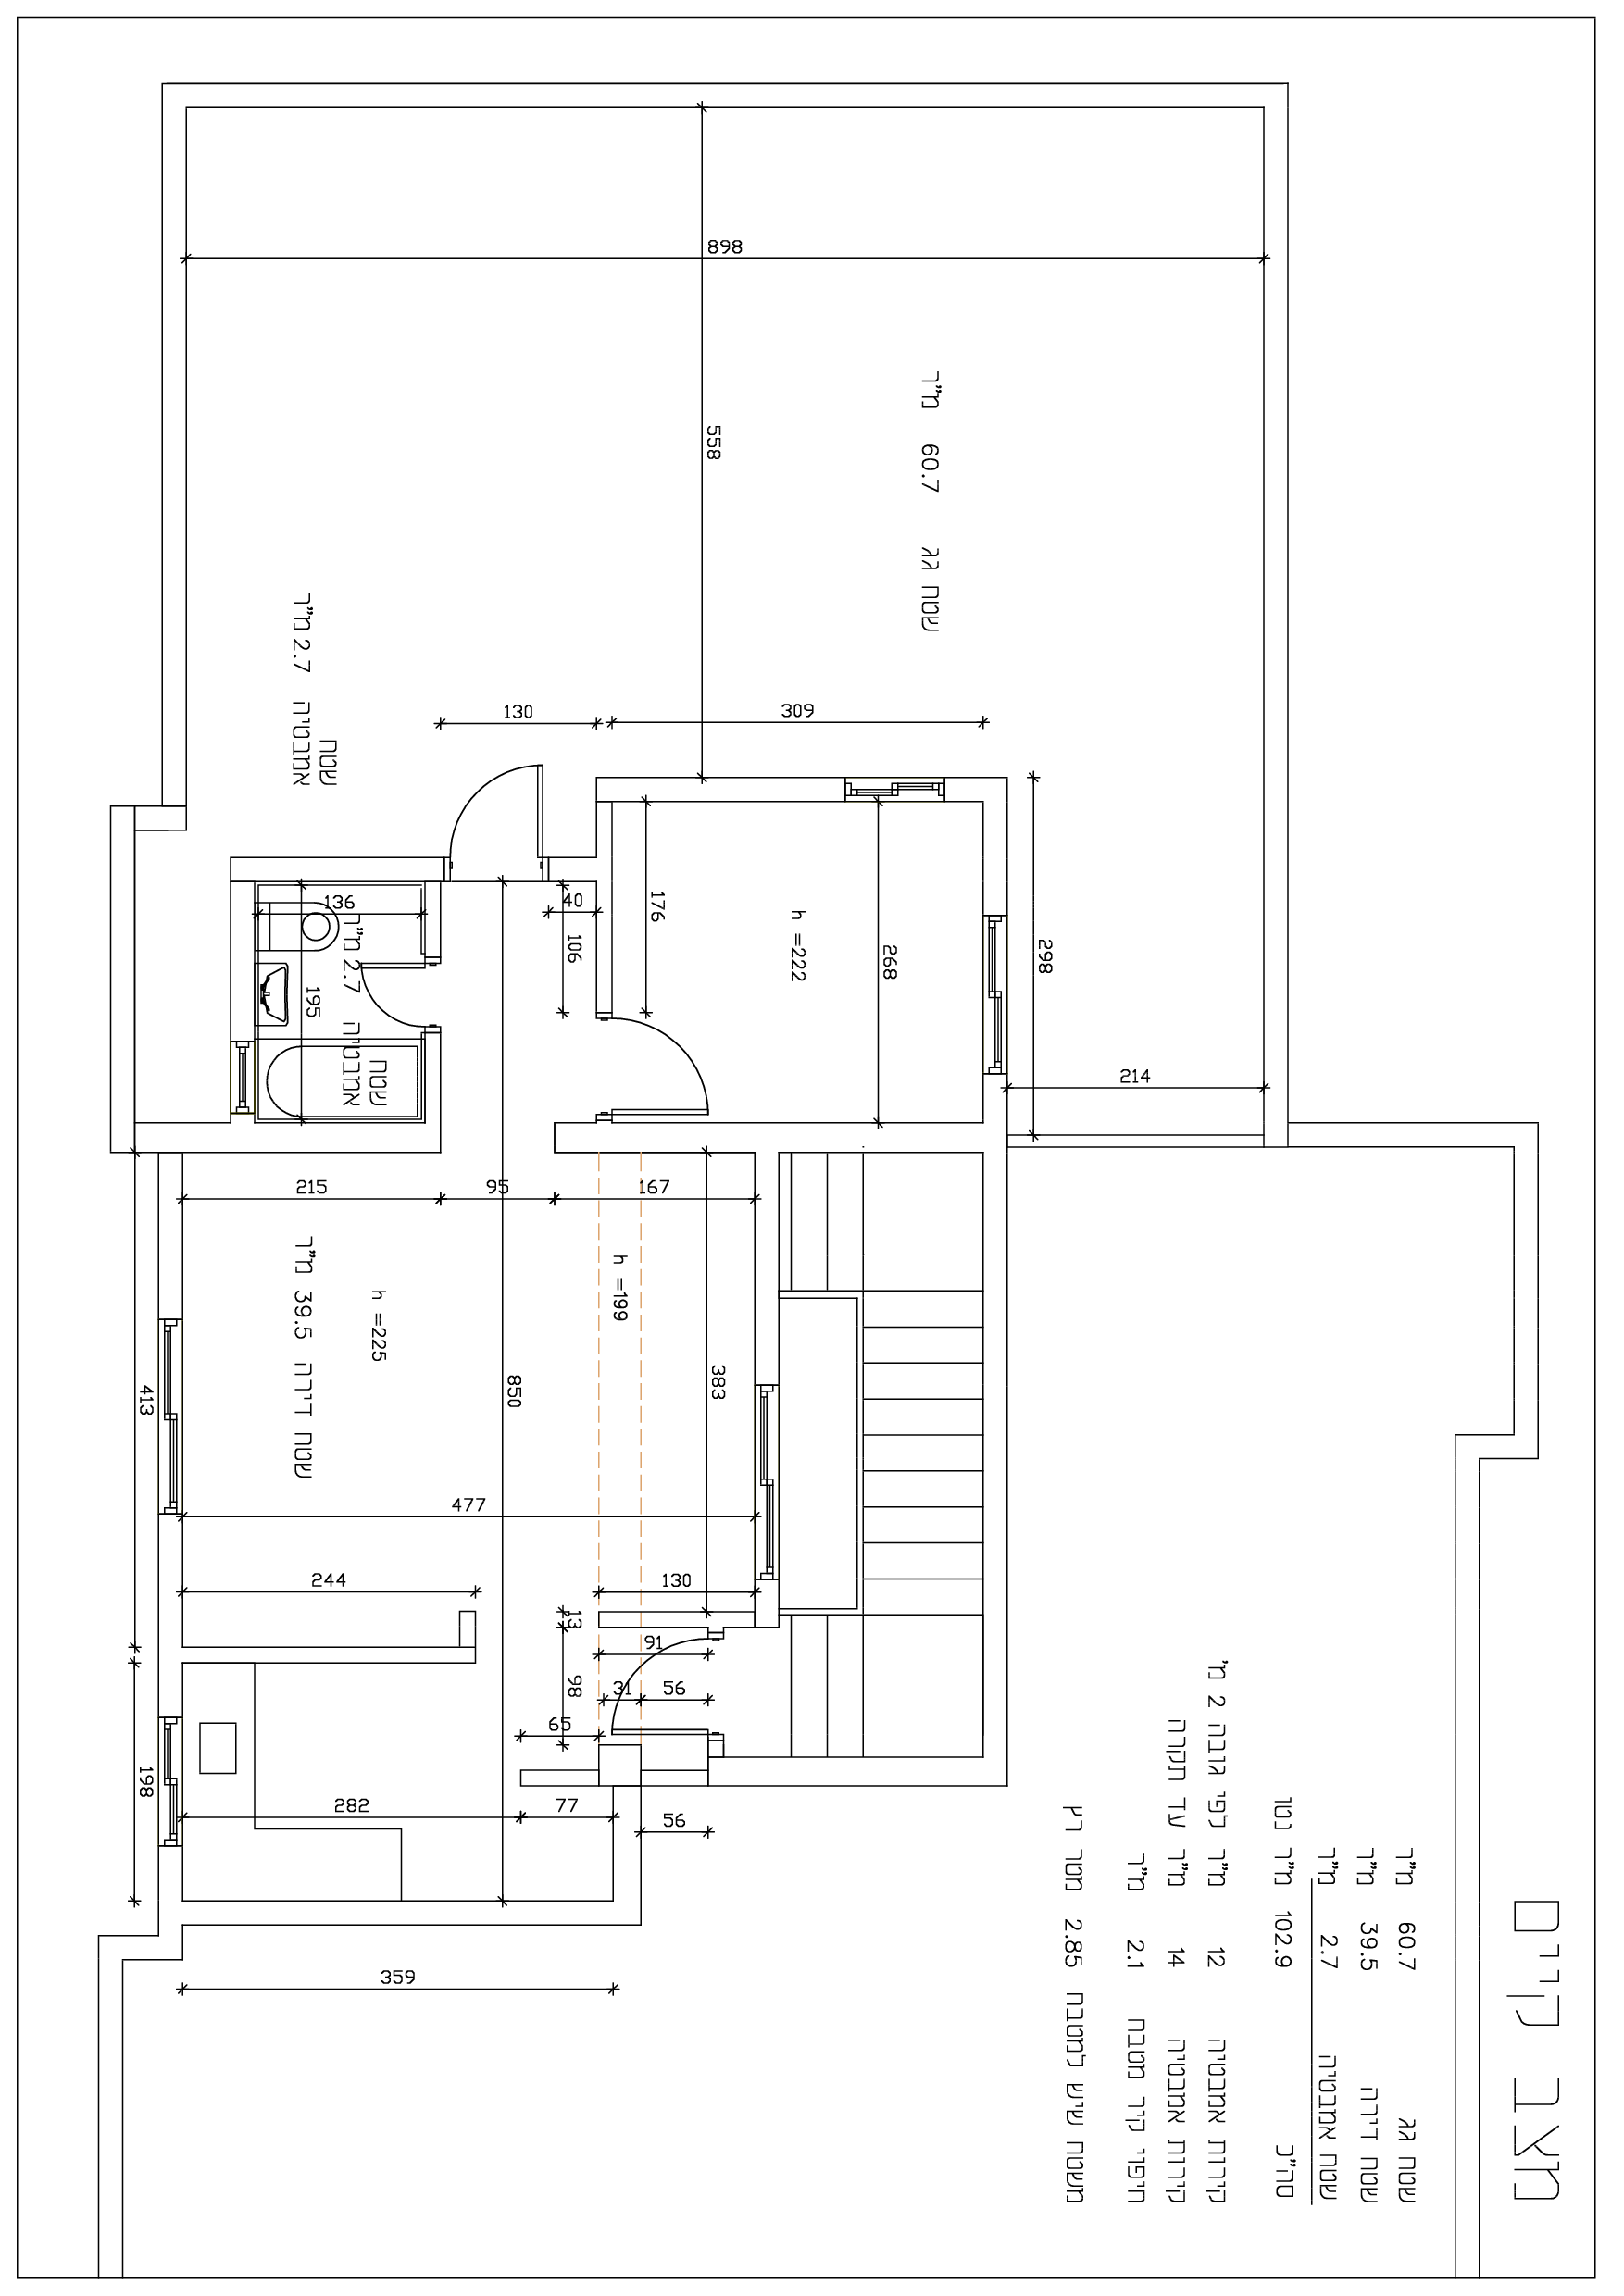door: (622, 1014, 735, 1117), (439, 748, 554, 843)
wall: (246, 83, 1005, 105), (163, 84, 185, 808), (230, 1899, 636, 1922), (111, 808, 135, 1151), (77, 1918, 209, 1975)
window: (982, 913, 1005, 1073), (844, 776, 946, 801)
